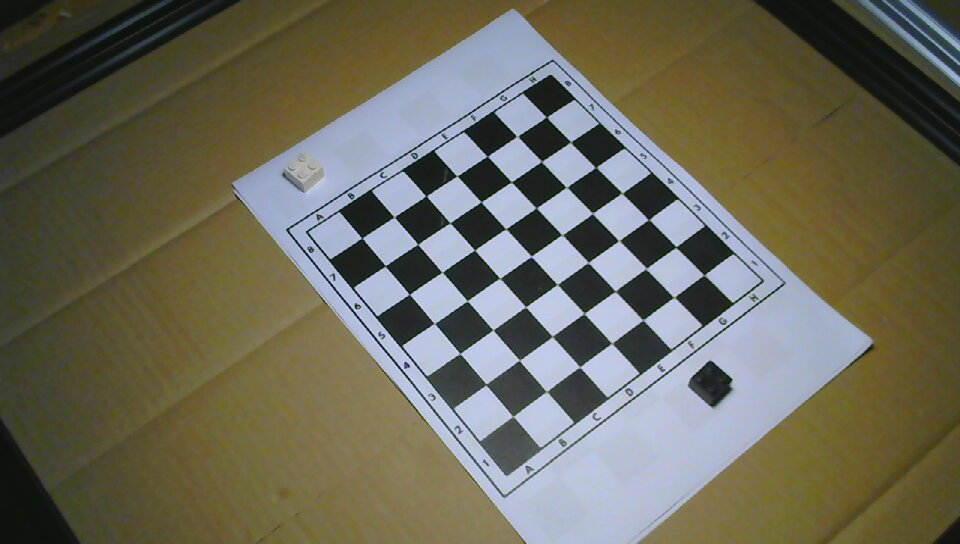bp: (687, 356, 734, 407)
wp: (284, 151, 325, 193)
